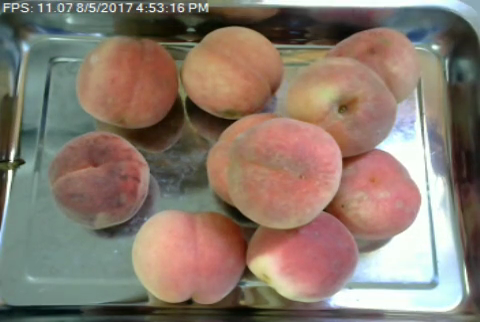Peach: (223, 118, 340, 228), (281, 52, 399, 158), (133, 209, 248, 305), (49, 130, 151, 228), (180, 25, 286, 119), (244, 215, 360, 300), (78, 36, 180, 127), (327, 147, 424, 242), (323, 27, 420, 102)
